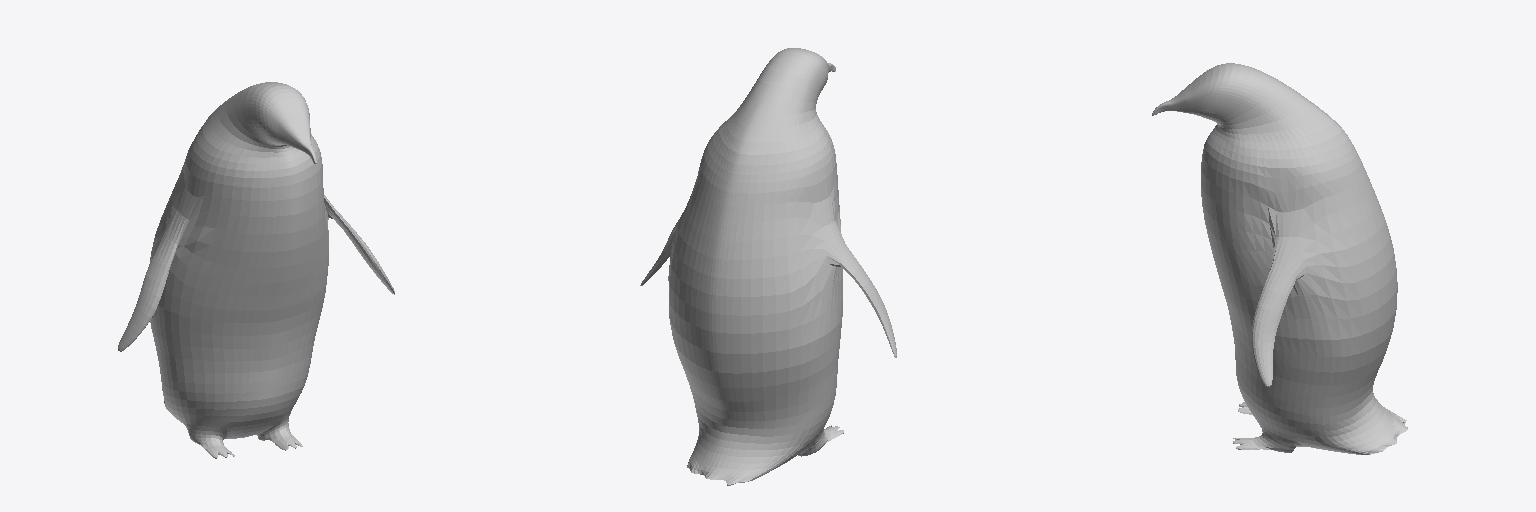
Rendered from RiggedPenguin_000002.obj.
The picture shows the model from 3 angles: view 1: azimuth 30°, elevation 25°; view 2: azimuth 150°, elevation 25°; view 3: azimuth 270°, elevation 25°; orthographic projection.
Visible parts, largest first — view 1: Penguin_Cylinder; view 2: Penguin_Cylinder; view 3: Penguin_Cylinder.
Boxes of the visible parts, <box> form: Penguin_Cylinder: <box>118,82,394,458</box>; Penguin_Cylinder: <box>640,48,896,485</box>; Penguin_Cylinder: <box>1152,63,1407,454</box>.
Size of the model in its own units: 0.9066 by 1.22 by 0.7554.